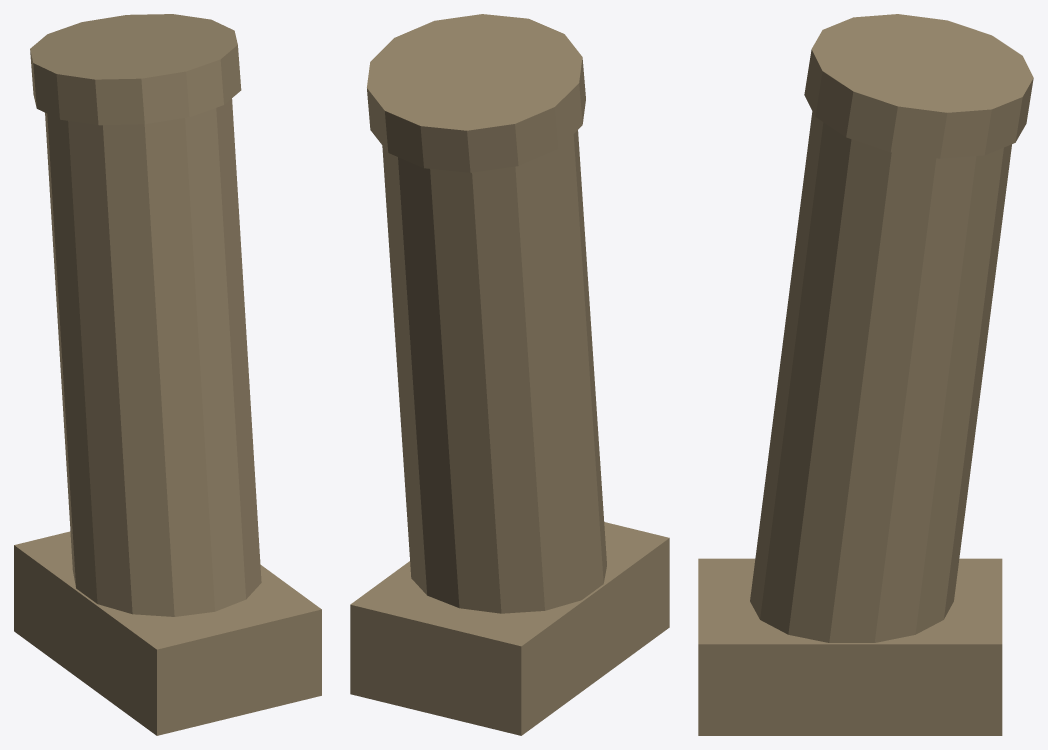
Rendered from foregrip_vertical.glb.
3 renders of one model, left to right at view 1: azimuth 30°, elevation 25°; view 2: azimuth 150°, elevation 25°; view 3: azimuth 270°, elevation 25°, orthographic. The views are drawn at different scales.
Visible parts, largest first — view 1: fg_body, fg_clamp, fg_cap; view 2: fg_body, fg_clamp, fg_cap; view 3: fg_body, fg_clamp, fg_cap.
Part boxes in pixels (x1,y1,x2,y2): fg_body: (45, 98, 261, 616); fg_clamp: (14, 531, 321, 735); fg_cap: (30, 14, 241, 125); fg_body: (382, 130, 606, 613); fg_clamp: (350, 522, 669, 735); fg_cap: (367, 14, 585, 172); fg_body: (750, 111, 1011, 642); fg_clamp: (698, 558, 1002, 735); fg_cap: (804, 14, 1033, 158).
Size of the model in its own units: 0.0302 by 0.0982 by 0.0463.
